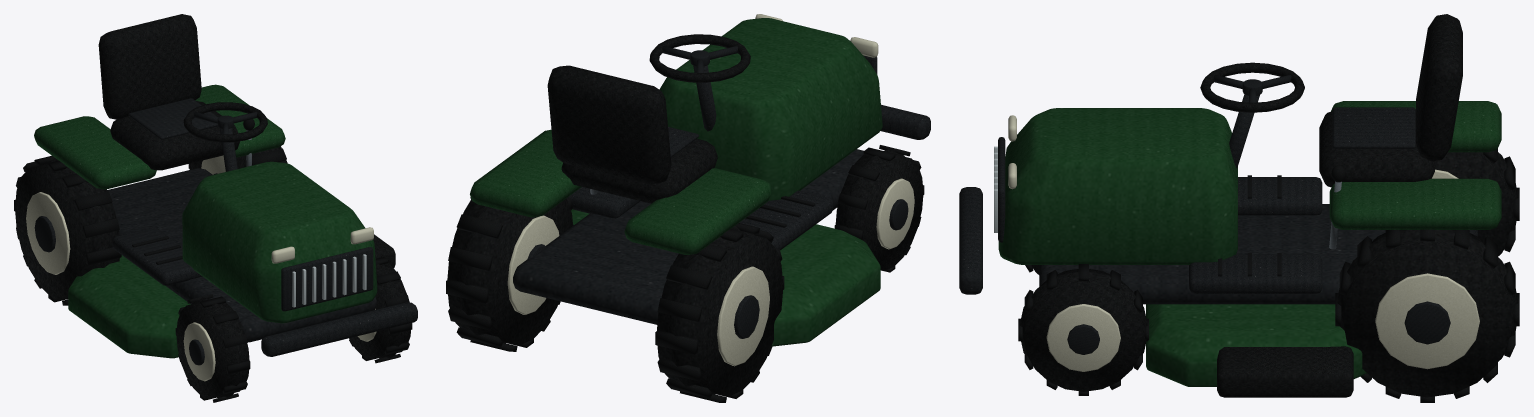
The model's file is Mower_LawnTractor_42in.fbx.
3 renders of one model, left to right at view 1: azimuth 30°, elevation 25°; view 2: azimuth 150°, elevation 25°; view 3: azimuth 270°, elevation 25°, orthographic. The views are drawn at different scales.
Visible parts, largest first — view 1: Mower_LawnTractor_42in__Body, Mower_LawnTractor_42in__Wheel_Rear_L, Mower_LawnTractor_42in__Wheel_Front_L, Mower_LawnTractor_42in__Wheel_Front_R, Mower_LawnTractor_42in__SteeringWheel, Mower_LawnTractor_42in__Wheel_Rear_R; view 2: Mower_LawnTractor_42in__Body, Mower_LawnTractor_42in__Wheel_Rear_L, Mower_LawnTractor_42in__Wheel_Rear_R, Mower_LawnTractor_42in__Wheel_Front_L, Mower_LawnTractor_42in__SteeringWheel; view 3: Mower_LawnTractor_42in__Body, Mower_LawnTractor_42in__Wheel_Rear_R, Mower_LawnTractor_42in__Wheel_Front_R, Mower_LawnTractor_42in__Wheel_Rear_L, Mower_LawnTractor_42in__SteeringWheel.
Part boxes in pixels (<box>): Mower_LawnTractor_42in__Body: <box>34,14,417,358</box>; Mower_LawnTractor_42in__Wheel_Rear_L: <box>14,155,121,305</box>; Mower_LawnTractor_42in__Wheel_Front_L: <box>175,294,250,402</box>; Mower_LawnTractor_42in__Wheel_Front_R: <box>349,257,412,363</box>; Mower_LawnTractor_42in__SteeringWheel: <box>183,102,267,142</box>; Mower_LawnTractor_42in__Wheel_Rear_R: <box>188,146,287,174</box>; Mower_LawnTractor_42in__Body: <box>470,14,930,346</box>; Mower_LawnTractor_42in__Wheel_Rear_L: <box>655,223,784,402</box>; Mower_LawnTractor_42in__Wheel_Rear_R: <box>446,197,573,351</box>; Mower_LawnTractor_42in__Wheel_Front_L: <box>834,145,924,272</box>; Mower_LawnTractor_42in__SteeringWheel: <box>649,34,750,82</box>; Mower_LawnTractor_42in__Body: <box>959,14,1501,397</box>; Mower_LawnTractor_42in__Wheel_Rear_R: <box>1335,229,1519,402</box>; Mower_LawnTractor_42in__Wheel_Front_R: <box>1018,264,1148,395</box>; Mower_LawnTractor_42in__Wheel_Rear_L: <box>1432,148,1519,256</box>; Mower_LawnTractor_42in__SteeringWheel: <box>1200,62,1304,112</box>.
Bounding box in the file's own units: 1.36 × 1.13 × 1.89.
